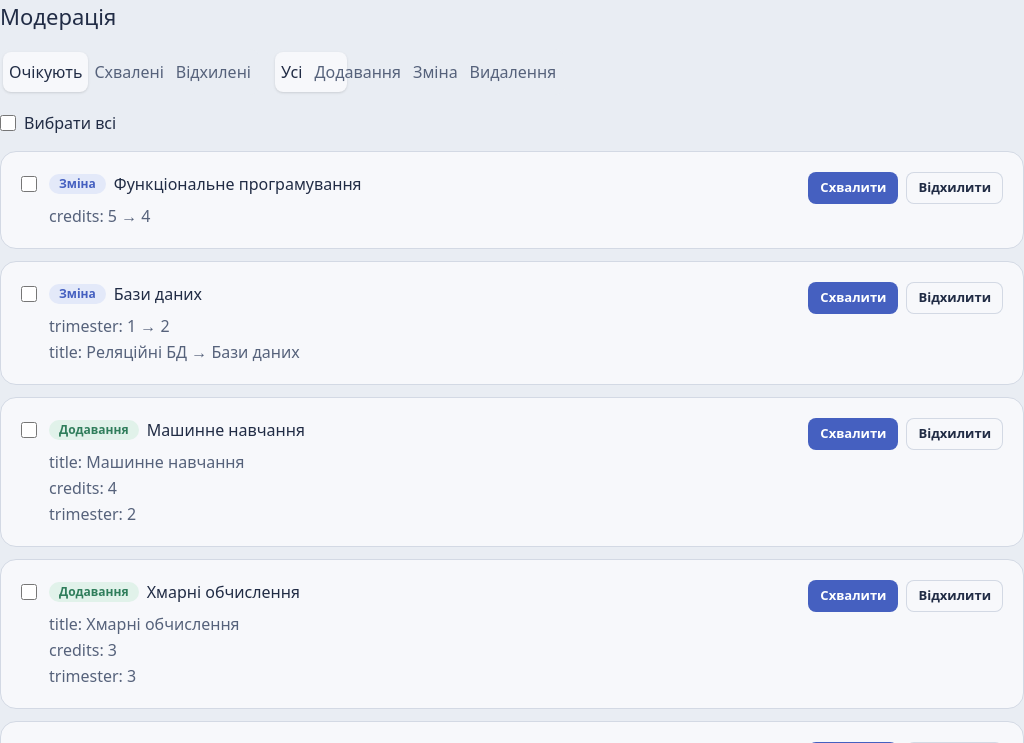
ModerationPage › фільтр типу «Додавання» залишає лише додавання
The width and height of the screenshot is (1024, 743).
Expected: the element named "Запис 501" is shown, [0,151,1023,249]
Click the button "Додавання": (358, 72) [308,52,407,92]
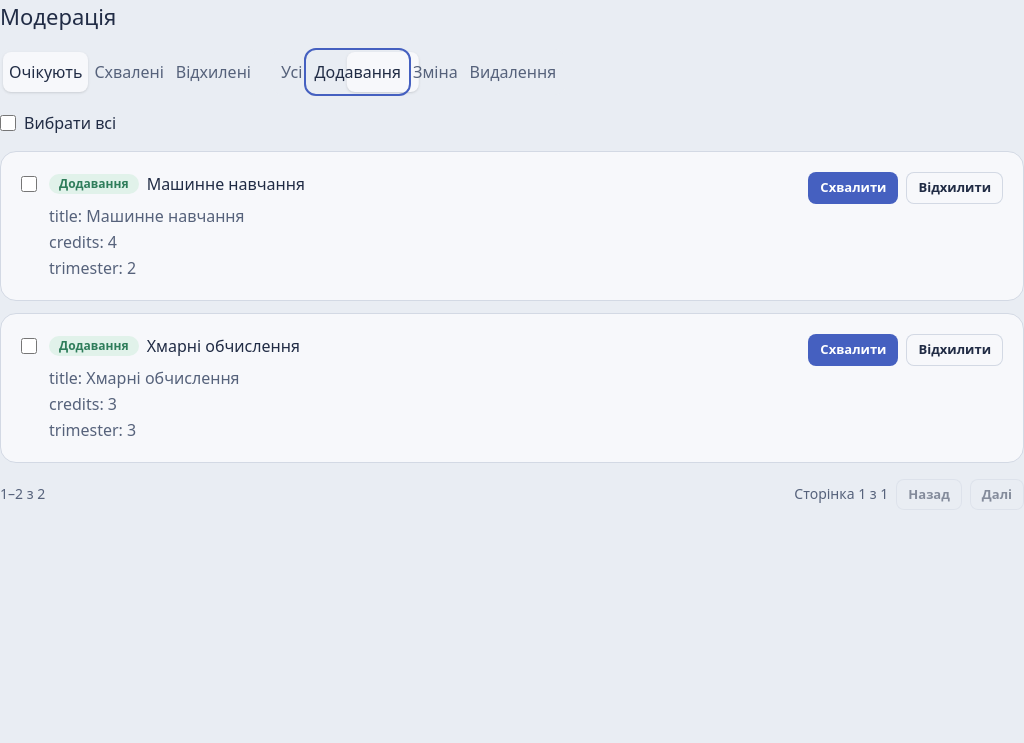
Now the number of elements named "Запис " is 2, box [0,151,1023,301]; [0,313,1023,463]
